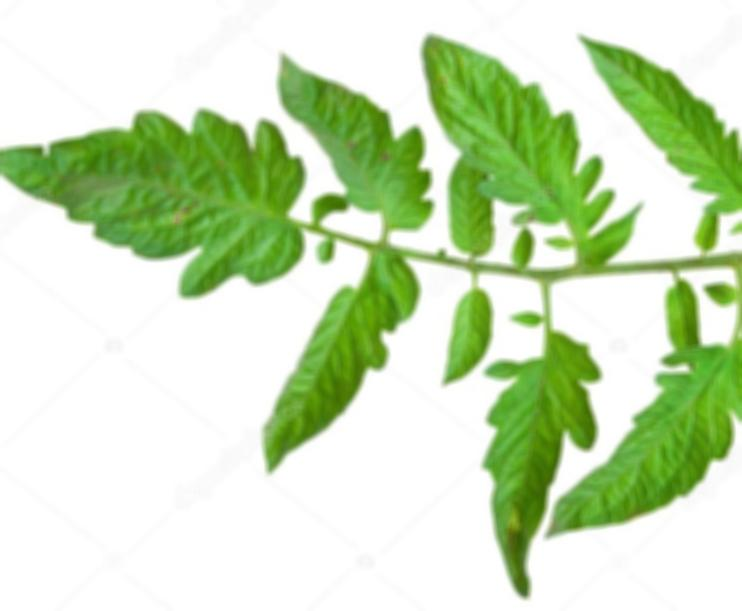Tomato leaf: (0, 103, 315, 304), (406, 26, 633, 265), (551, 321, 742, 542), (573, 29, 742, 241), (245, 261, 401, 474), (268, 63, 443, 248), (489, 322, 589, 611)
